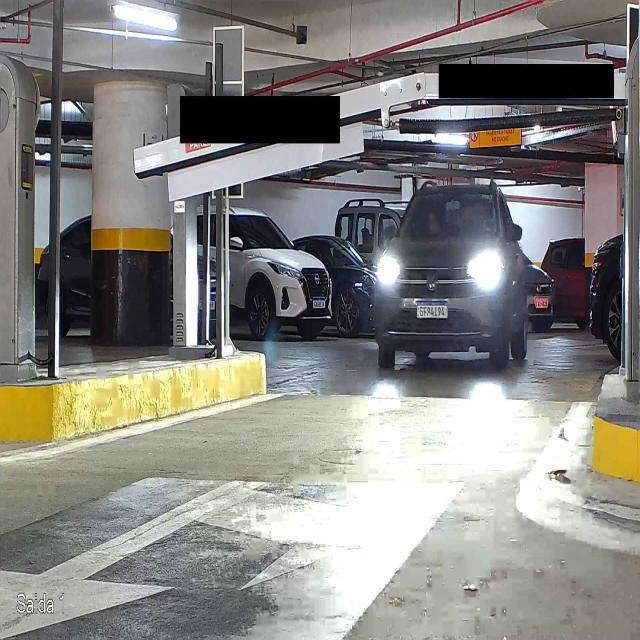mercosul_plate: (414, 299, 450, 320)
